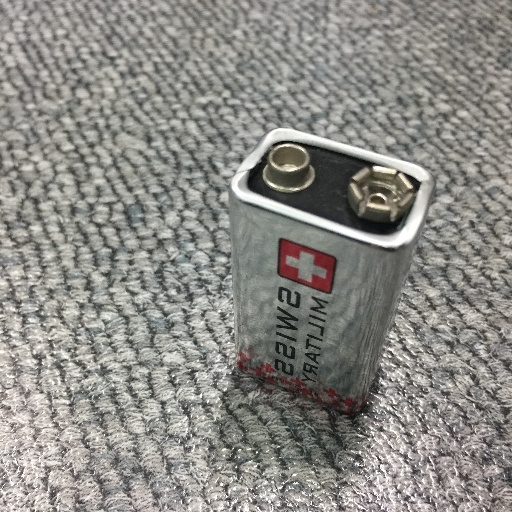Battery_3: (212, 113, 449, 440)
